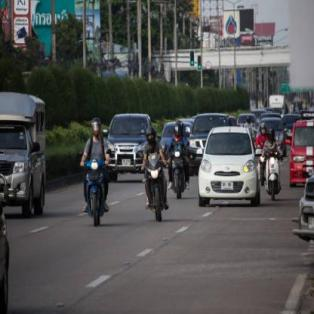Motocicleta: (78, 149, 114, 227), (143, 147, 170, 226), (167, 141, 189, 201)
